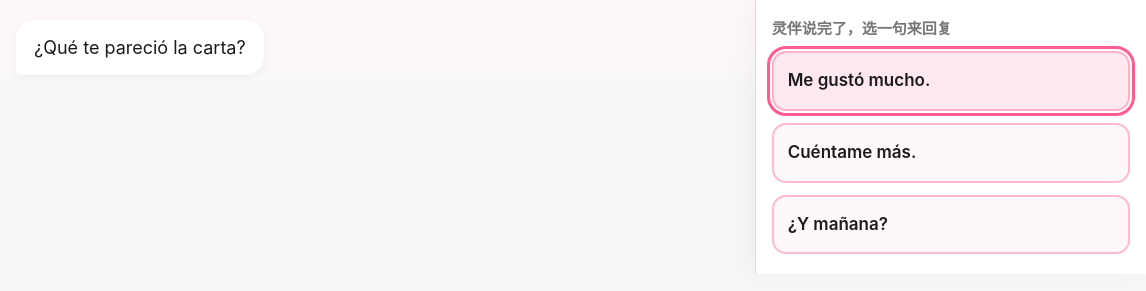
Scenario: Soul Mate TV chat (option replies) › sends the chosen option and refreshes reply choices
Step 1. Click the button with class "reply-option" showing "Me gustó mucho." → x=859, y=80, box left=772, top=51, right=1130, bottom=111
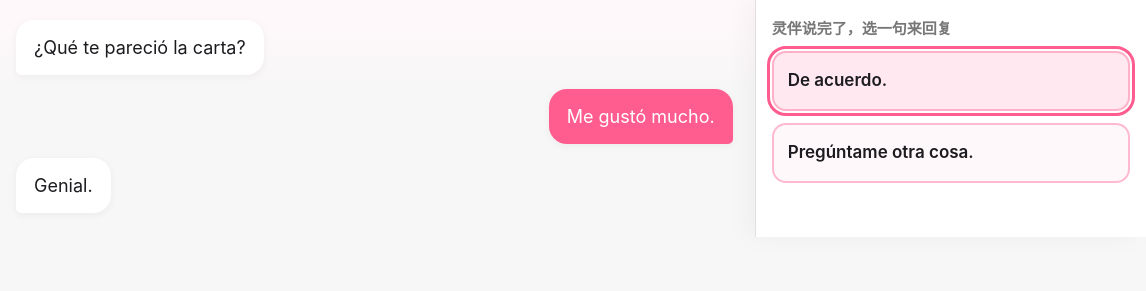
Expected: the text "Genial." is shown, left=16, top=158, right=111, bottom=213
Expected: the elements with class "reply-option" read "De acuerdo.", "Pregúntame otra cosa.", in this order, left=772, top=51, right=1130, bottom=111; left=772, top=123, right=1130, bottom=183
